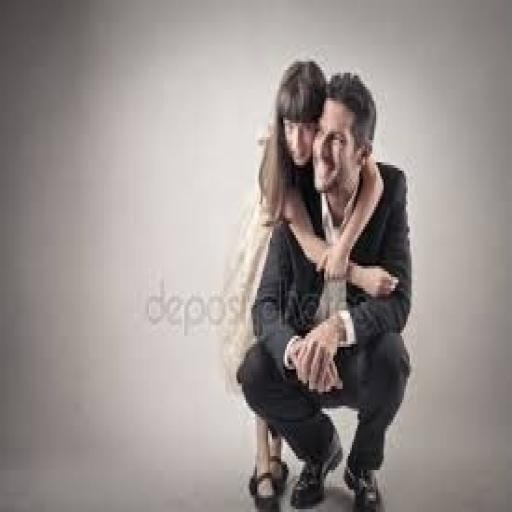hugging: (229, 59, 413, 509)
